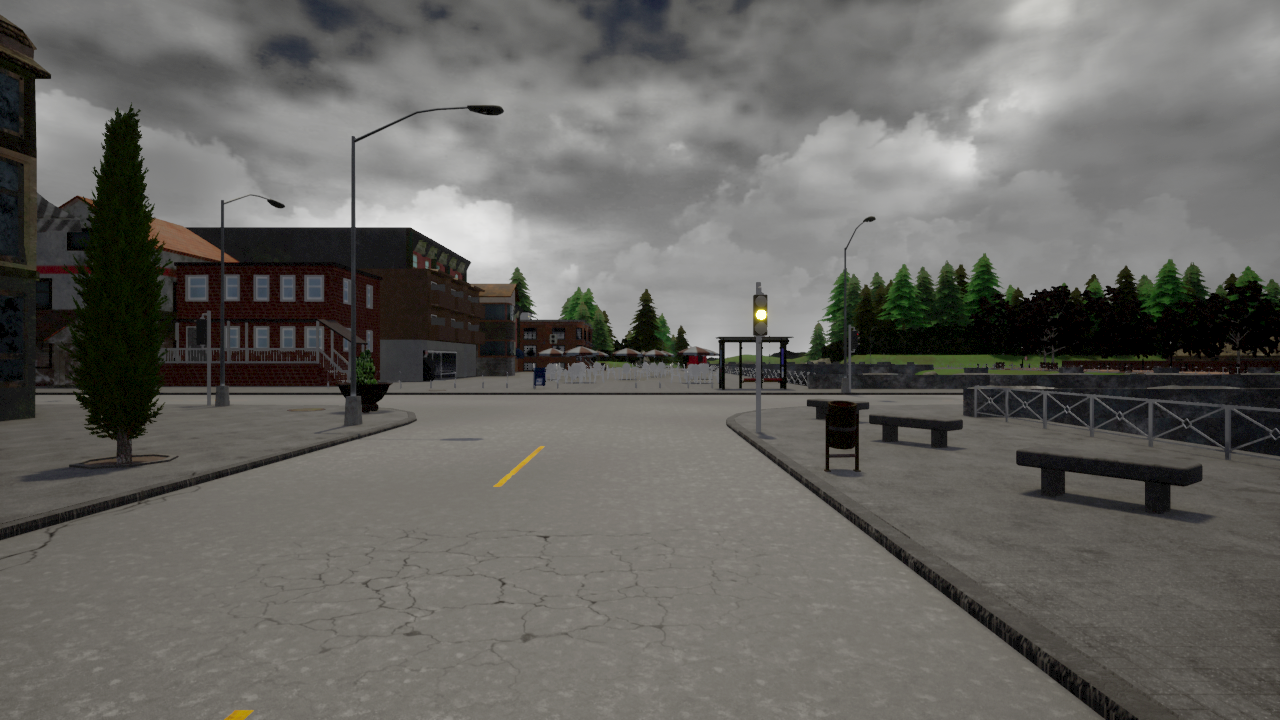yellow: (750, 292, 772, 336)
